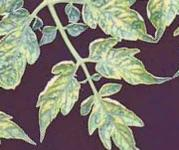Tomato leaf mosaic virus: (79, 18, 171, 110), (12, 55, 99, 145), (60, 0, 156, 71), (0, 3, 65, 93), (72, 77, 151, 150)
